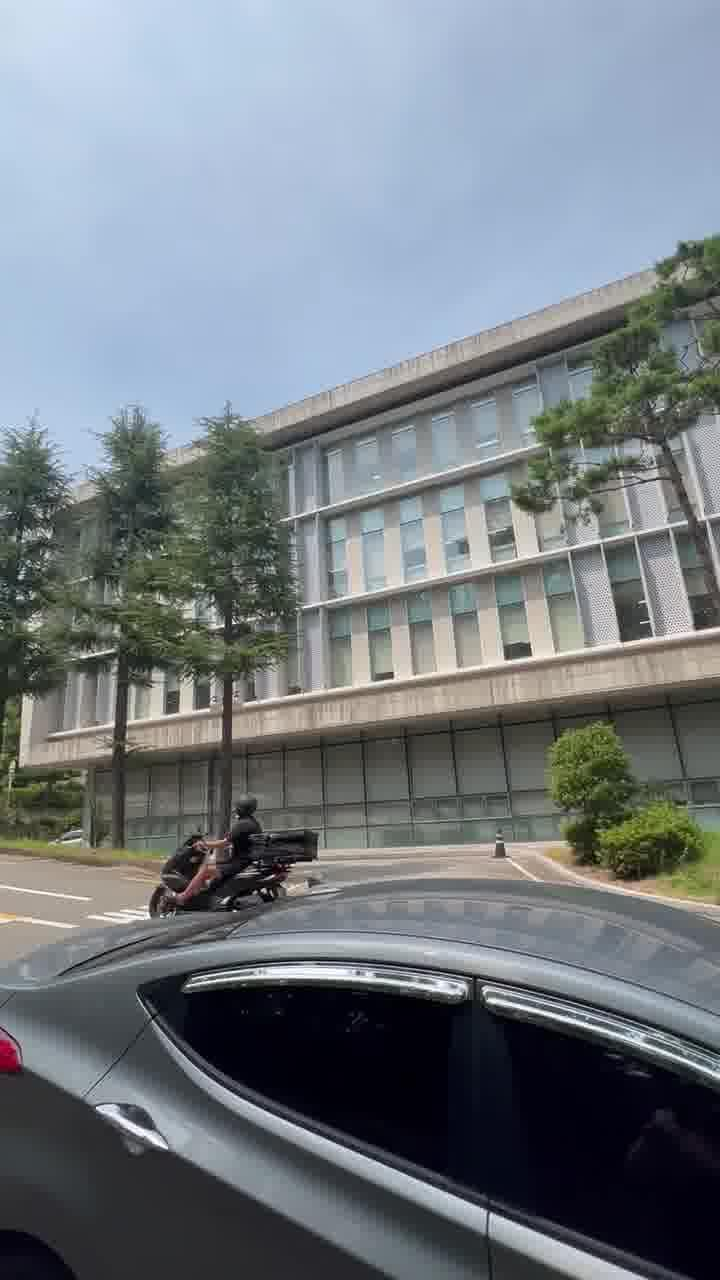building: (268, 298, 570, 852)
